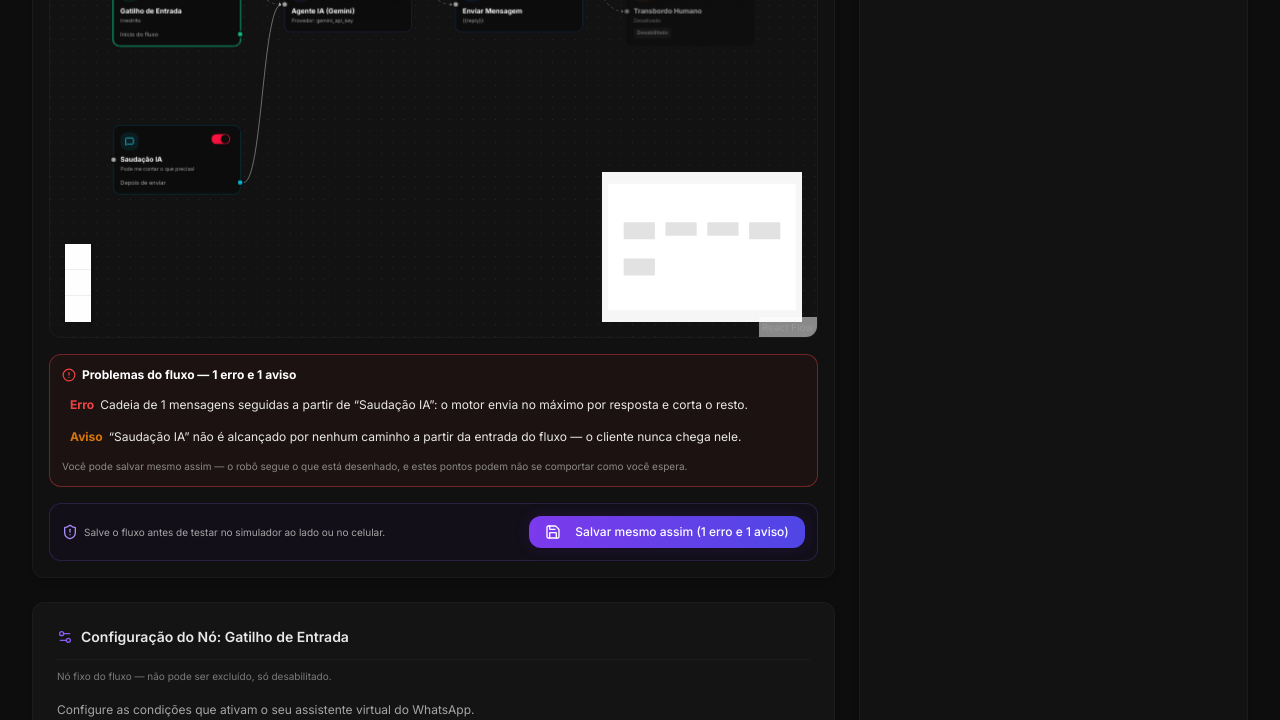
R9 · dica de aviso no inspector da mensagem (G29 — nunca prometer palavra que não existe) › o texto NUNCA é alterado sozinho: sem clicar, a mensagem fica como o usuário escreveu
(page scrolled)
Expected: the heading "Gatilho de Entrada" is shown, [120,7,182,15]
Click the element showing "Saudação IA Pode me contar o que precisa! Depois de enviar" at (177, 160), box [113,125,241,195]
(page scrolled)
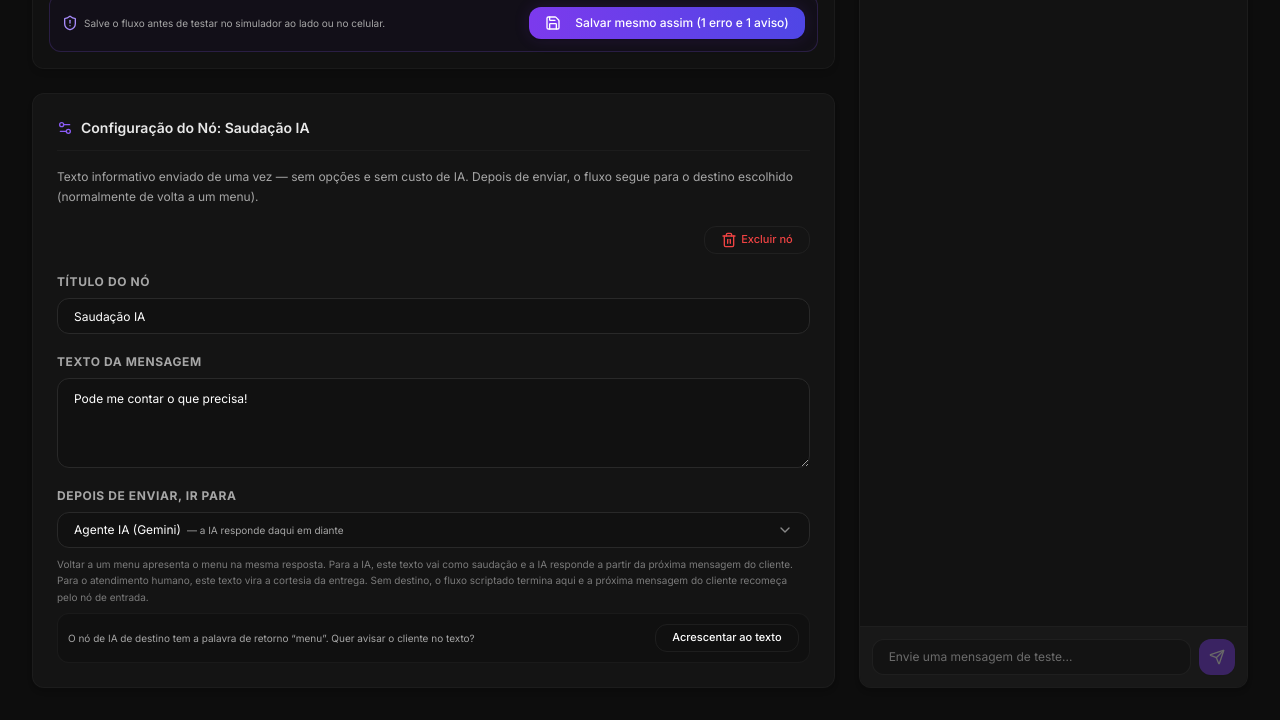
Now the text box with placeholder "Ex: Atendemos de segunda a sexta, das 9h às 18h." holds "Pode me contar o que precisa!", box [57,378,810,468]
